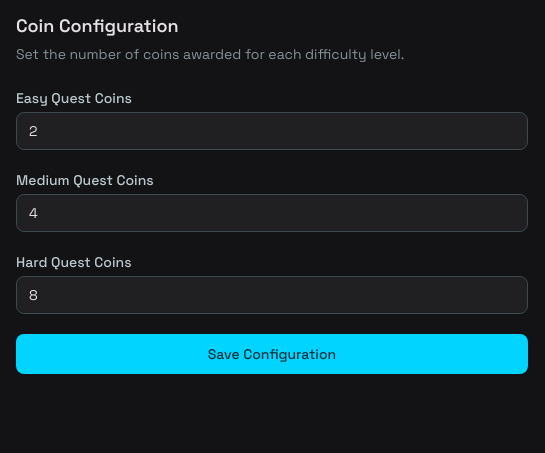
Test: CoinConfigPanel › shows success message on save success
This screenshot has width=545, height=453.
Expected: the number field labelled "Easy Quest Coins" is shown, [16,112,528,150]
Submit the form
Click the button "Save Configuration".
click(272, 354)  # box [16,334,528,374]
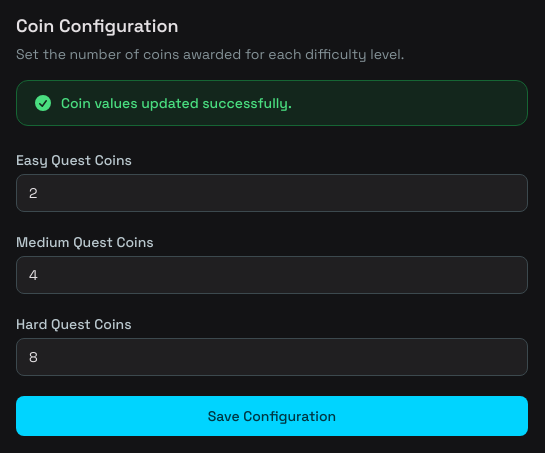
Expected: the text "Coin values updated successfully." is shown, [61,93,292,113]
